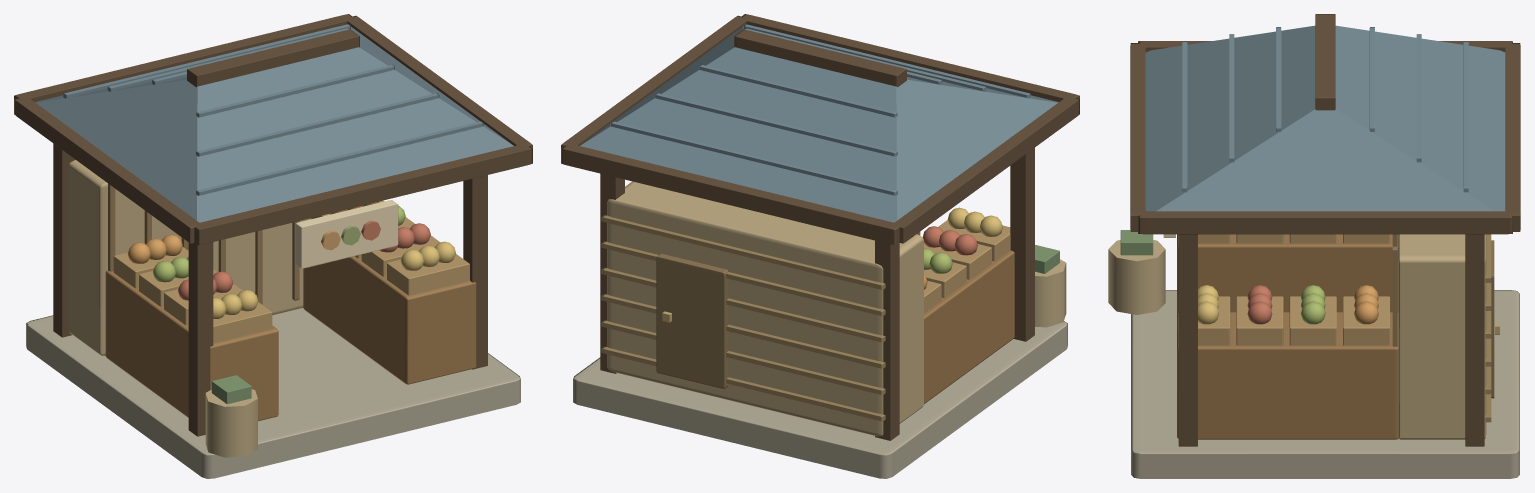
Rendered from grocer-2.glb.
The picture shows the model from 3 angles, left to right: view 1: azimuth 30°, elevation 25°; view 2: azimuth 150°, elevation 25°; view 3: azimuth 270°, elevation 25°; orthographic projection. The views are drawn at different scales.
Parts seen in each view (by area): view 1: grocer-2-0; view 2: grocer-2-0; view 3: grocer-2-0.
Boxes of the visible parts, bbox=[...] form: grocer-2-0: bbox=[14, 14, 532, 478]; grocer-2-0: bbox=[561, 14, 1079, 478]; grocer-2-0: bbox=[1108, 14, 1520, 478].
Size of the model in its own units: 2.05 by 1.84 by 2.01.
